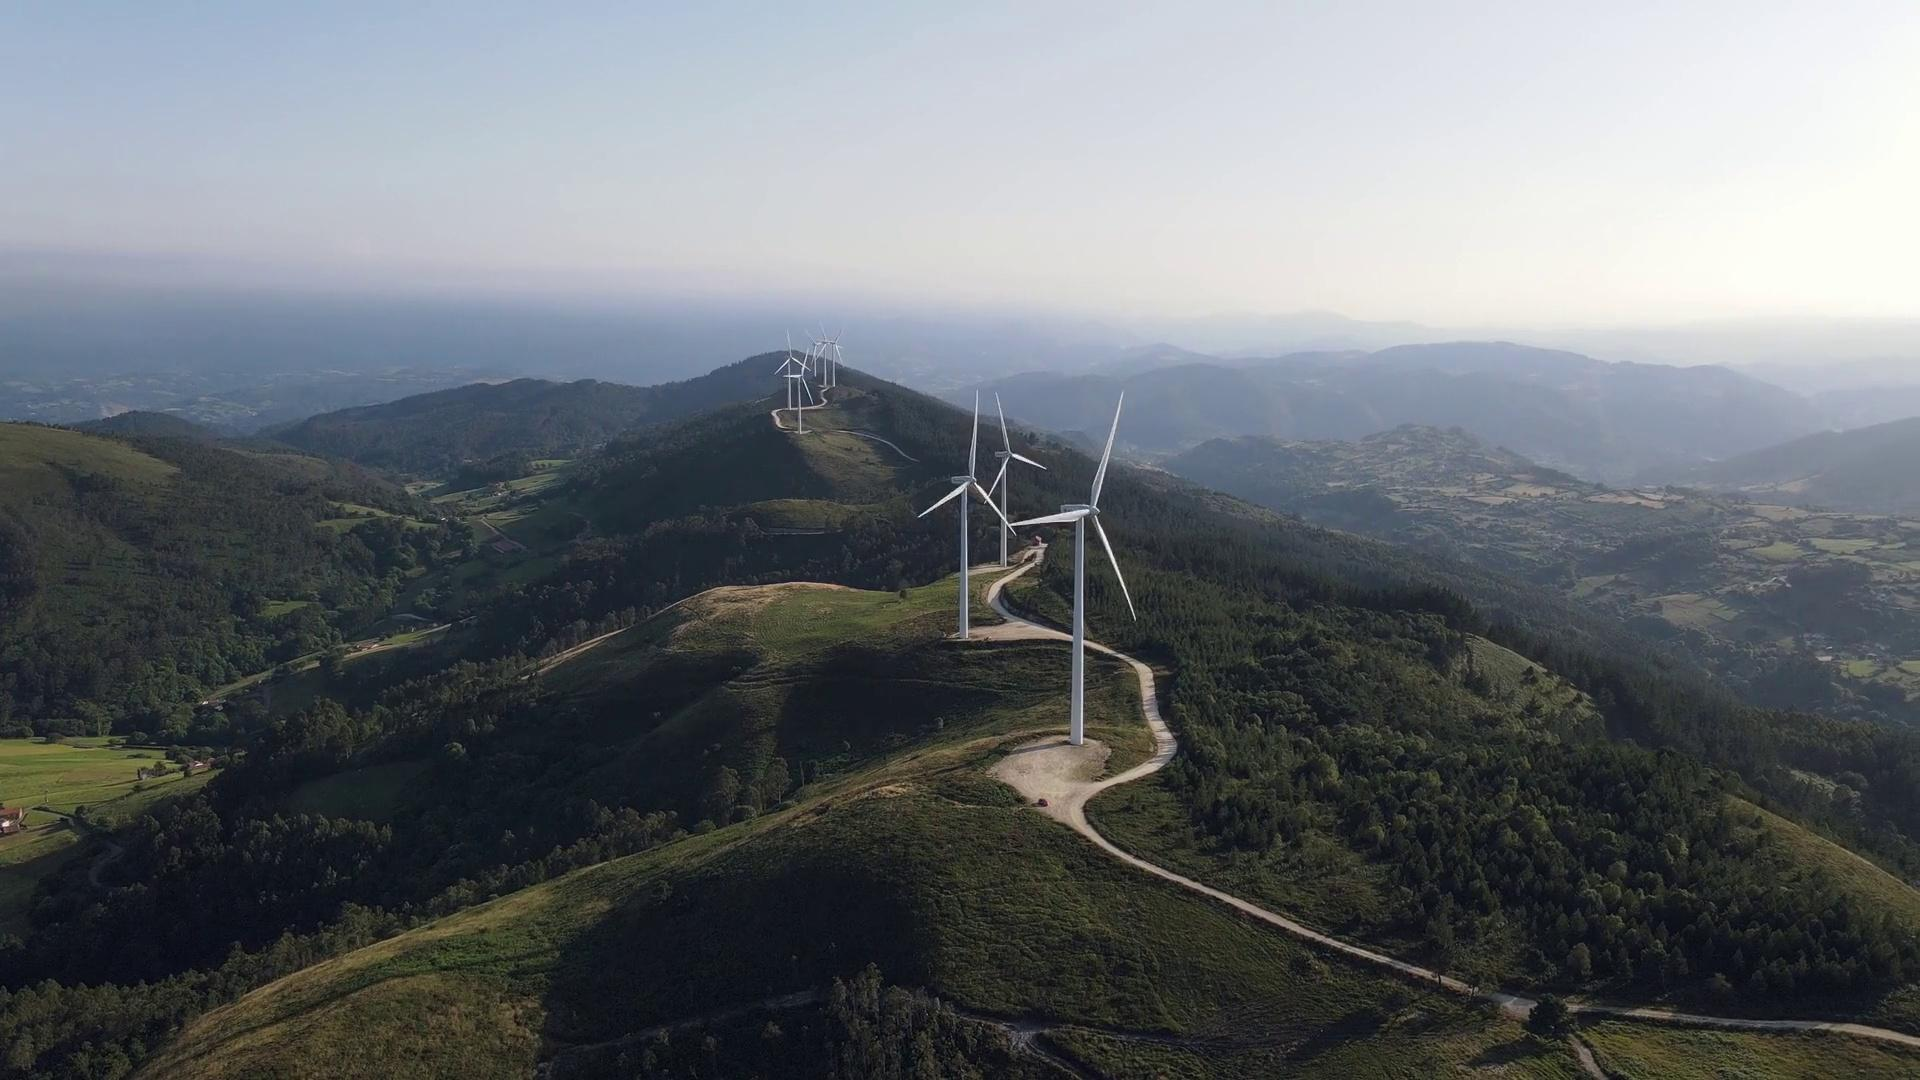turbine: (972, 361, 1203, 770), (853, 392, 1056, 657), (931, 401, 1050, 580), (723, 340, 819, 447), (715, 334, 804, 427), (757, 319, 829, 427), (752, 311, 835, 385)
